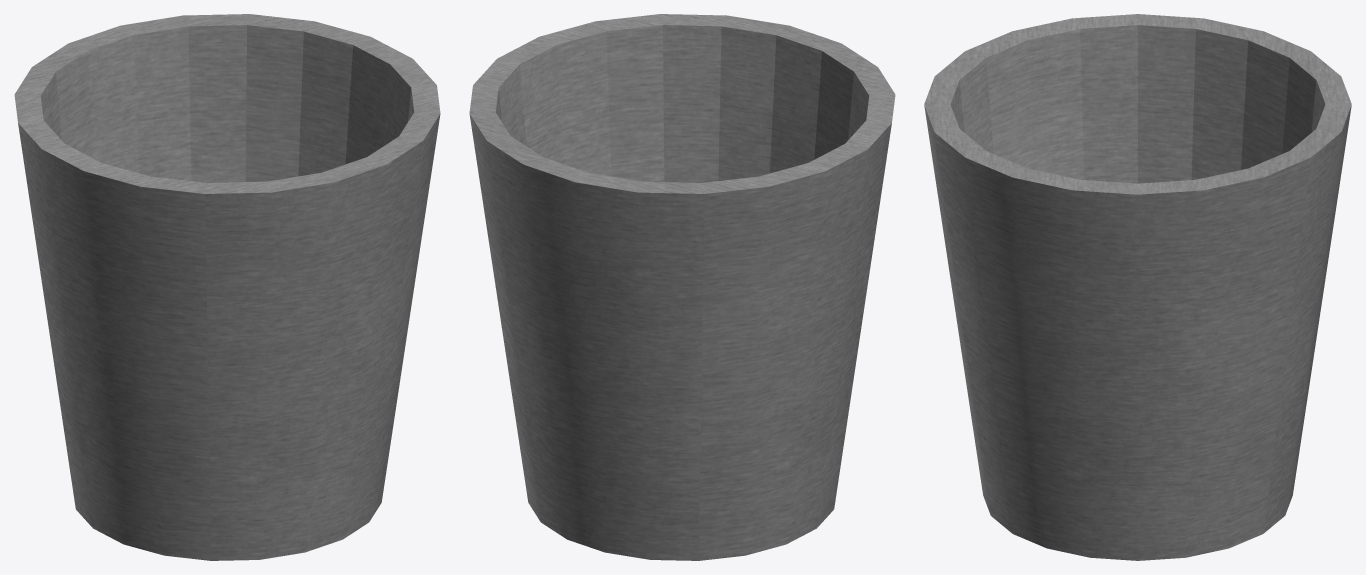
File: Bin.fbx
The picture shows the model from 3 angles, left to right: view 1: azimuth 30°, elevation 25°; view 2: azimuth 150°, elevation 25°; view 3: azimuth 270°, elevation 25°; orthographic projection.
Parts seen in each view (by area): view 1: bin; view 2: bin; view 3: bin.
Boxes of the visible parts, x1,y1,x2,y2 form: bin: [14, 14, 440, 560]; bin: [469, 14, 895, 560]; bin: [924, 14, 1351, 560].
Bounding box in the file's own units: 0.3475 × 0.3507 × 0.3475.
